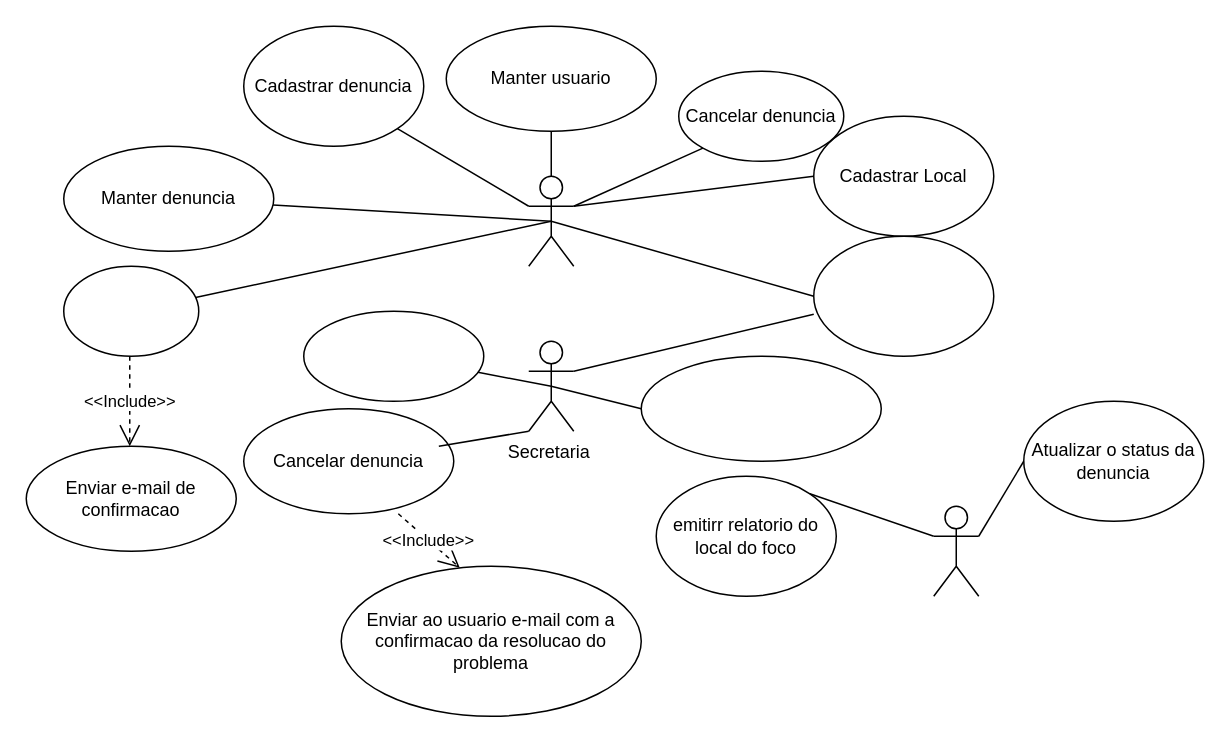
This 1230x743 diagram has some shape labels left out. The centre of each missing label's shape, as x and y in pixels:
"Agente comunitario" belongs at point (955, 550).
"Efetuar denuncia" belongs at point (130, 310).
"Encaminha o relatorio do status da denuncia ao agente comunitario" belongs at point (760, 408).
"Gerar relatorio do status da denuncia" belongs at point (393, 355).
"Usuario" belongs at point (550, 220).
"Verificar status da denuncia" belongs at point (903, 295).
